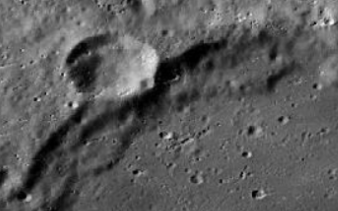crater: (30, 8, 200, 150)
